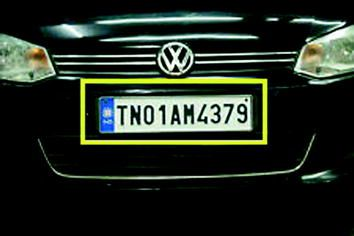number_plate: (93, 91, 256, 134)
